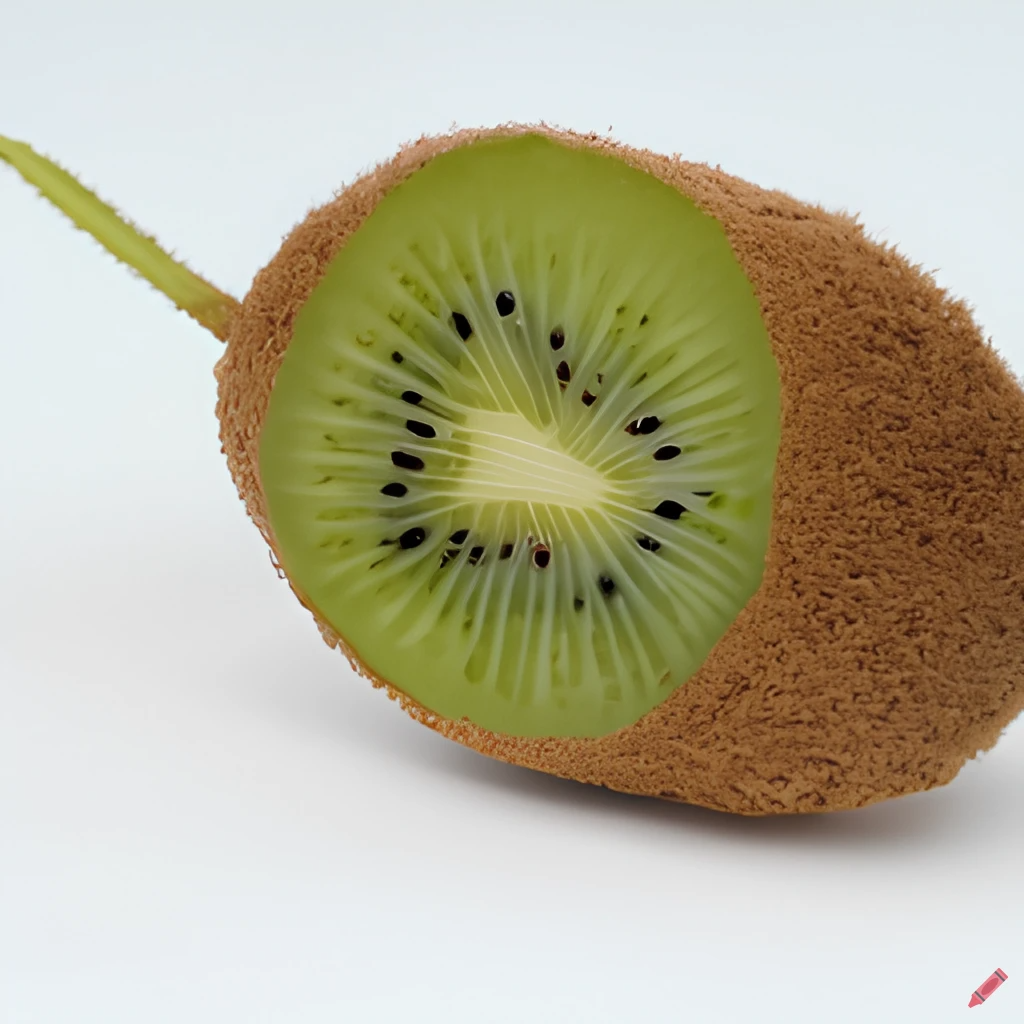Kiwi: (207, 115, 1024, 864)
